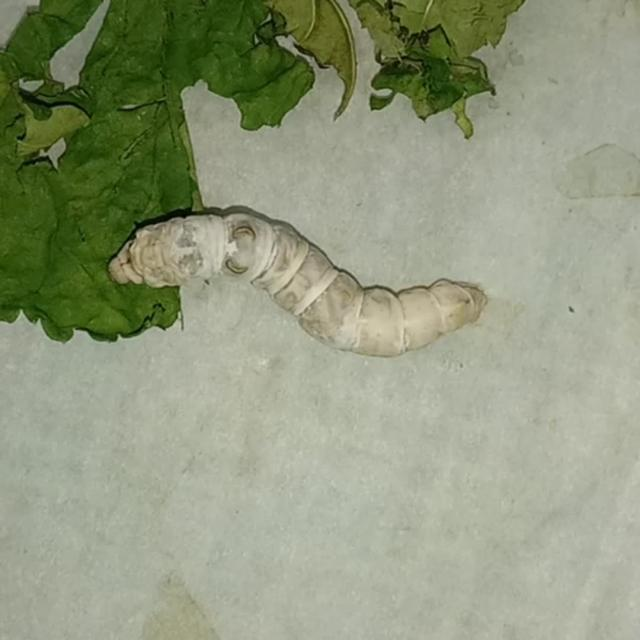Grasserie: (91, 177, 515, 406)
